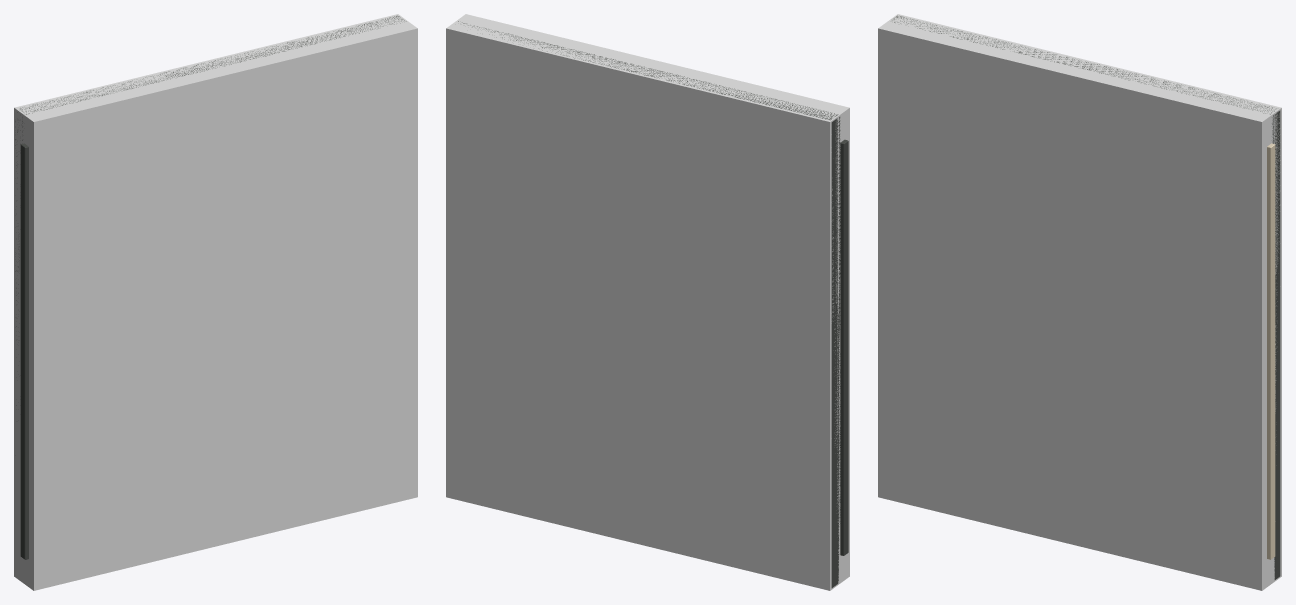
The model's file is window-treatment_basic.glb.
3 renders of one model, left to right at view 1: azimuth 30°, elevation 25°; view 2: azimuth 150°, elevation 25°; view 3: azimuth 330°, elevation 25°, orthographic.
Parts seen in each view (by area): view 1: COL_window-treatment, MESH_FinishPanel_01, MESH_FinishBase; view 2: COL_window-treatment, MESH_FinishBase, MESH_FinishPanel_01; view 3: COL_window-treatment, MESH_FinishBase, MESH_FinishPanel_04.
Part boxes in pixels (left/top/right/bottom): COL_window-treatment: left=14, top=14, right=417, bottom=590; MESH_FinishPanel_01: left=20, top=143, right=28, bottom=559; MESH_FinishBase: left=15, top=15, right=406, bottom=405; COL_window-treatment: left=446, top=14, right=849, bottom=590; MESH_FinishBase: left=458, top=21, right=840, bottom=587; MESH_FinishPanel_01: left=840, top=139, right=848, bottom=555; COL_window-treatment: left=878, top=14, right=1281, bottom=590; MESH_FinishBase: left=892, top=15, right=1280, bottom=579; MESH_FinishPanel_04: left=1267, top=143, right=1275, bottom=559.
Bounding box in the file's own units: 1.84 × 2.1 × 0.16.
